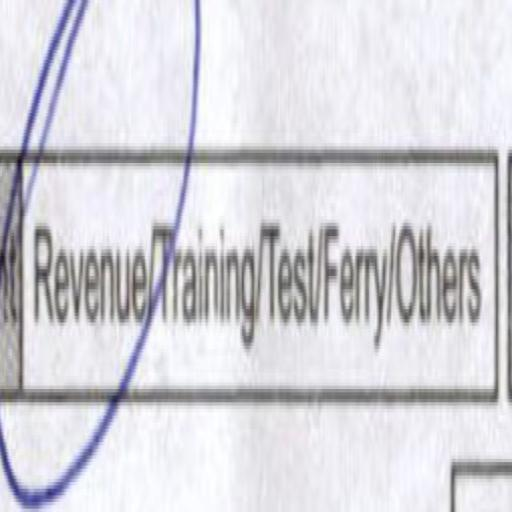check: (33, 45, 148, 499)
